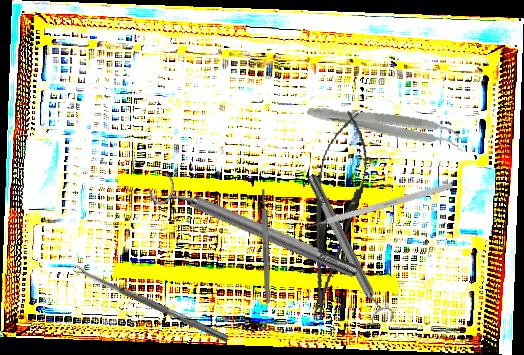Fixation Ring: (145, 167, 364, 291), (300, 169, 397, 331)
Hook Surgical: (296, 181, 453, 234)
Needle Holder: (291, 107, 378, 326)
Scalpel Handle: (259, 188, 272, 305)
Surgical Spoon: (73, 263, 229, 343)
Tissue Forceps: (304, 100, 468, 153)
